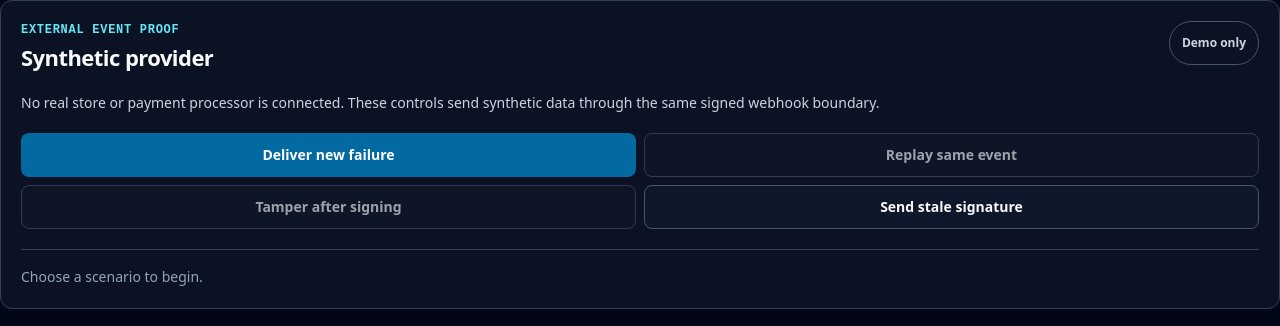
Test: SyntheticProviderPanel › shows the webhook_authentication_failed outcome without automatically resending
Click the button "Deliver new failure" at coordinates (328, 155), box 21,133 -> 636,177
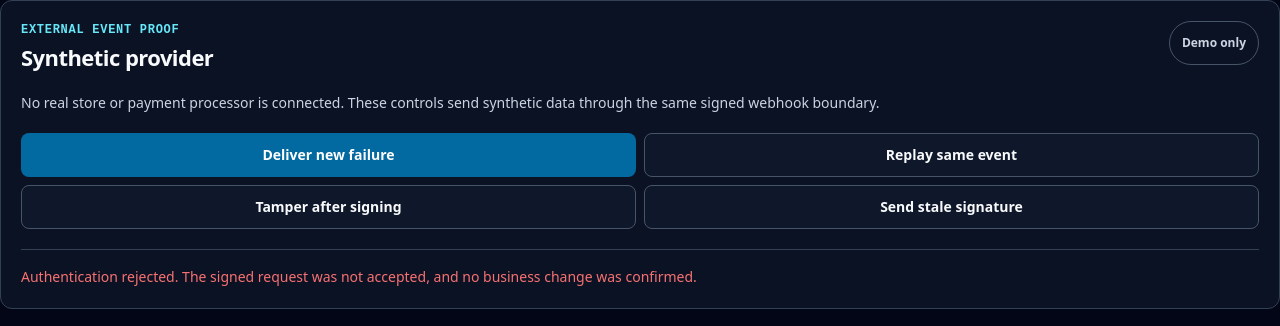
Expected: the message shows "Authentication rejected", 21,267 -> 697,286
